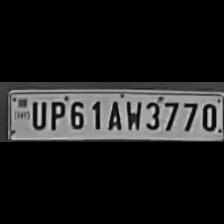0: (198, 101, 218, 131)
1: (88, 98, 104, 130)
3: (142, 98, 160, 132)
6: (66, 98, 86, 130)
7: (160, 99, 178, 131), (179, 100, 197, 132)
A: (104, 97, 122, 130)
P: (46, 98, 66, 132)
U: (28, 98, 46, 130)
W: (122, 97, 142, 131)
